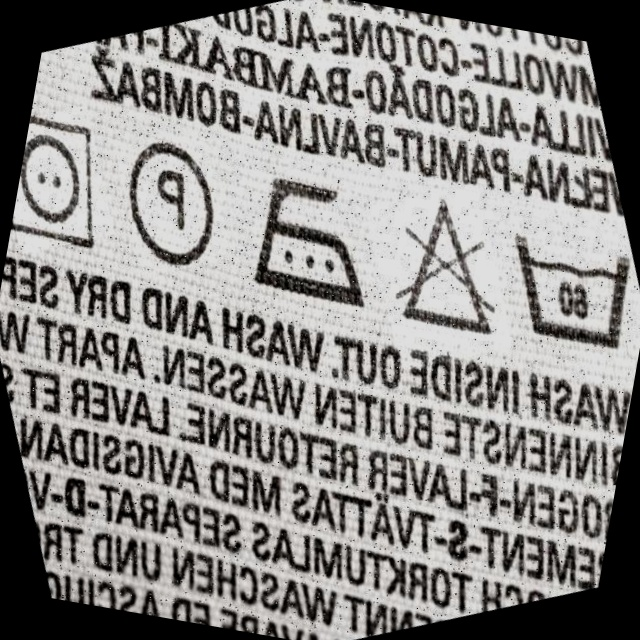60C: (496, 226, 640, 355)
DN_bleach: (391, 193, 512, 339)
dry_clean_any_solvent_except_trichloroethylene: (108, 132, 241, 278)
iron_high: (239, 168, 382, 312)
tumble_dry_medium: (8, 111, 110, 258)
